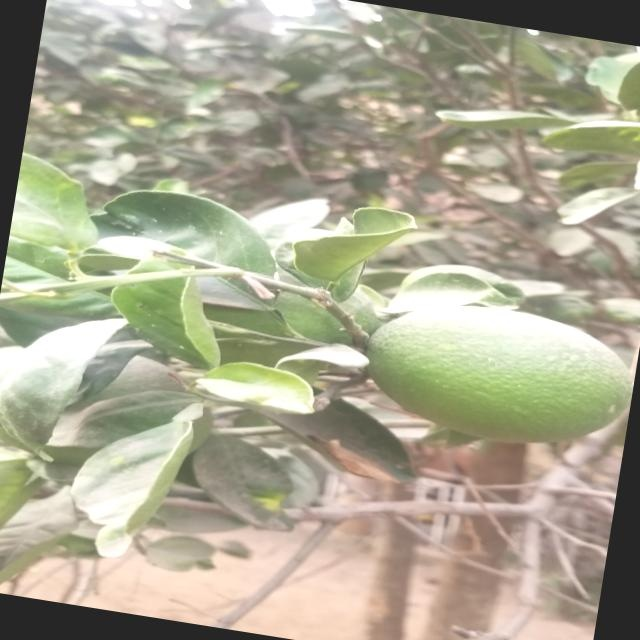agrume: (348, 281, 640, 470)
